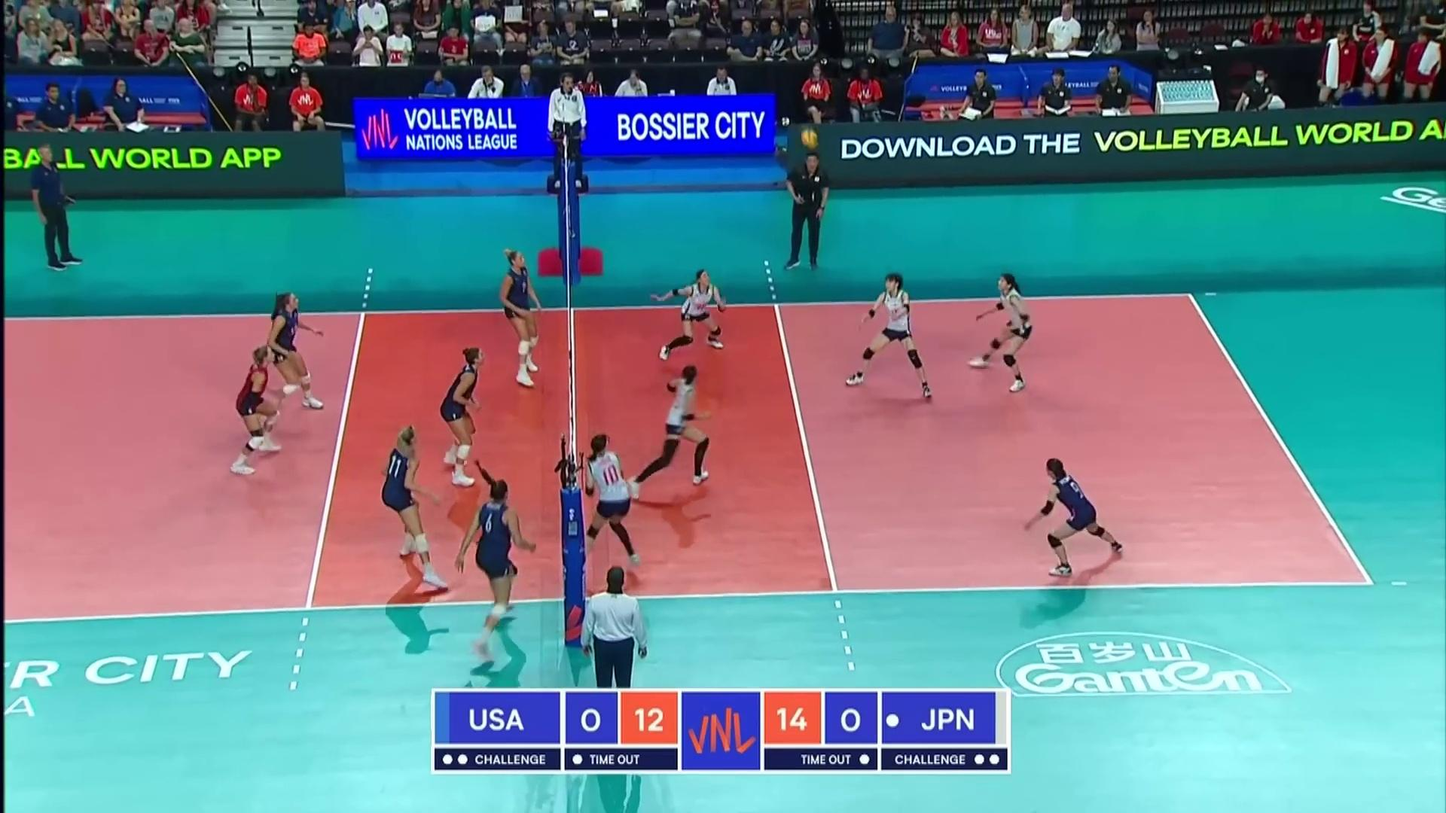player: (453, 482, 537, 660), (1024, 456, 1125, 575), (629, 365, 714, 497), (381, 425, 446, 592), (843, 275, 930, 399), (257, 290, 328, 410), (579, 435, 639, 570), (967, 273, 1035, 392), (227, 345, 281, 477), (650, 270, 727, 359), (441, 350, 486, 486), (501, 249, 545, 387)
refree: (581, 565, 646, 692), (548, 72, 587, 185)
